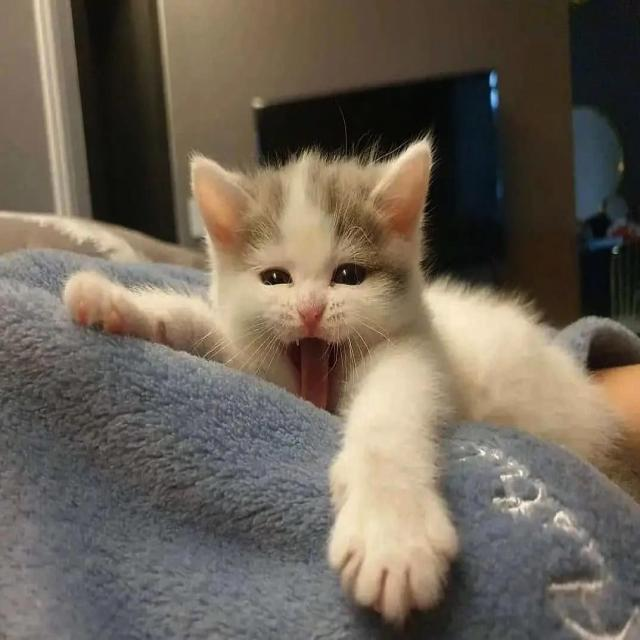da khoe manh: (432, 314, 568, 411)
